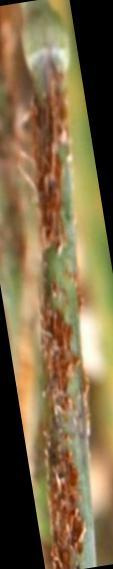Wheat: (45, 309, 77, 381), (41, 174, 62, 235), (39, 74, 66, 117), (51, 480, 80, 520), (39, 128, 60, 165), (50, 538, 76, 564), (56, 391, 73, 412), (54, 442, 66, 466), (48, 278, 60, 300)
